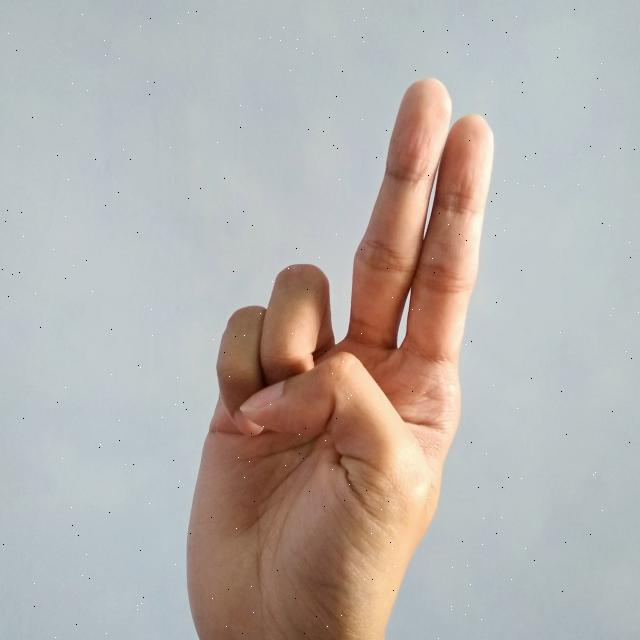U: (181, 72, 499, 640)
